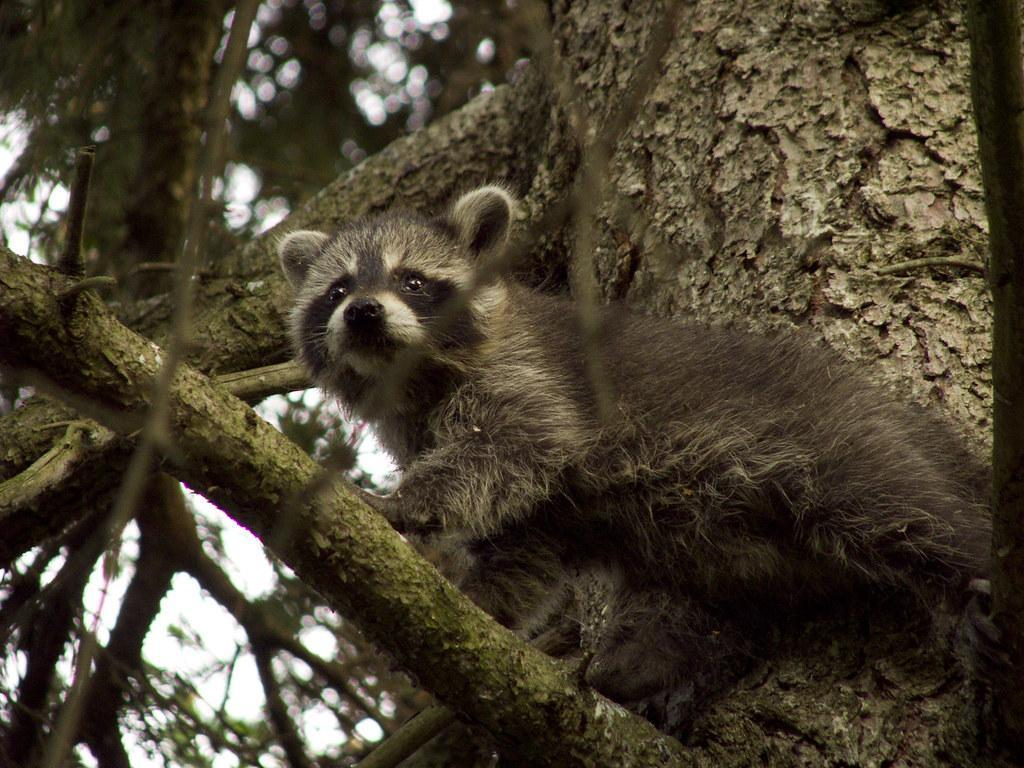raccoon: (276, 185, 1003, 694)
